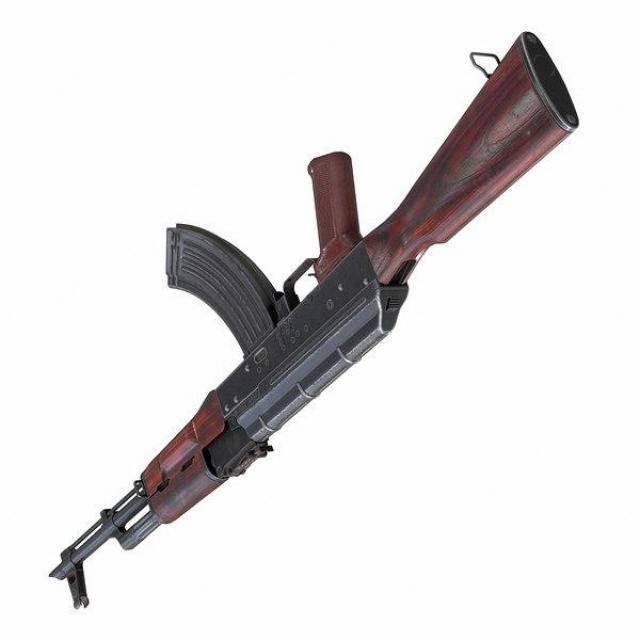weapon: (44, 32, 582, 610)
